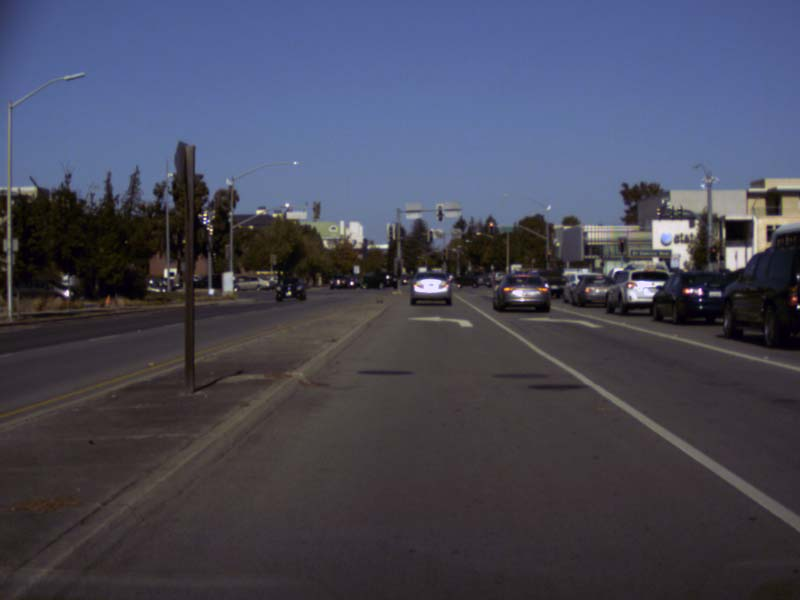Red: (710, 247, 716, 263), (488, 221, 494, 234), (618, 238, 623, 252), (546, 250, 551, 261)
